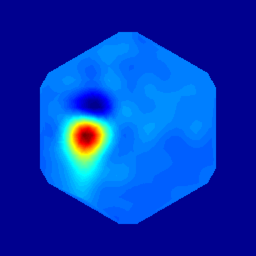ship: (81, 100, 102, 125)
wave: (79, 117, 99, 152)
